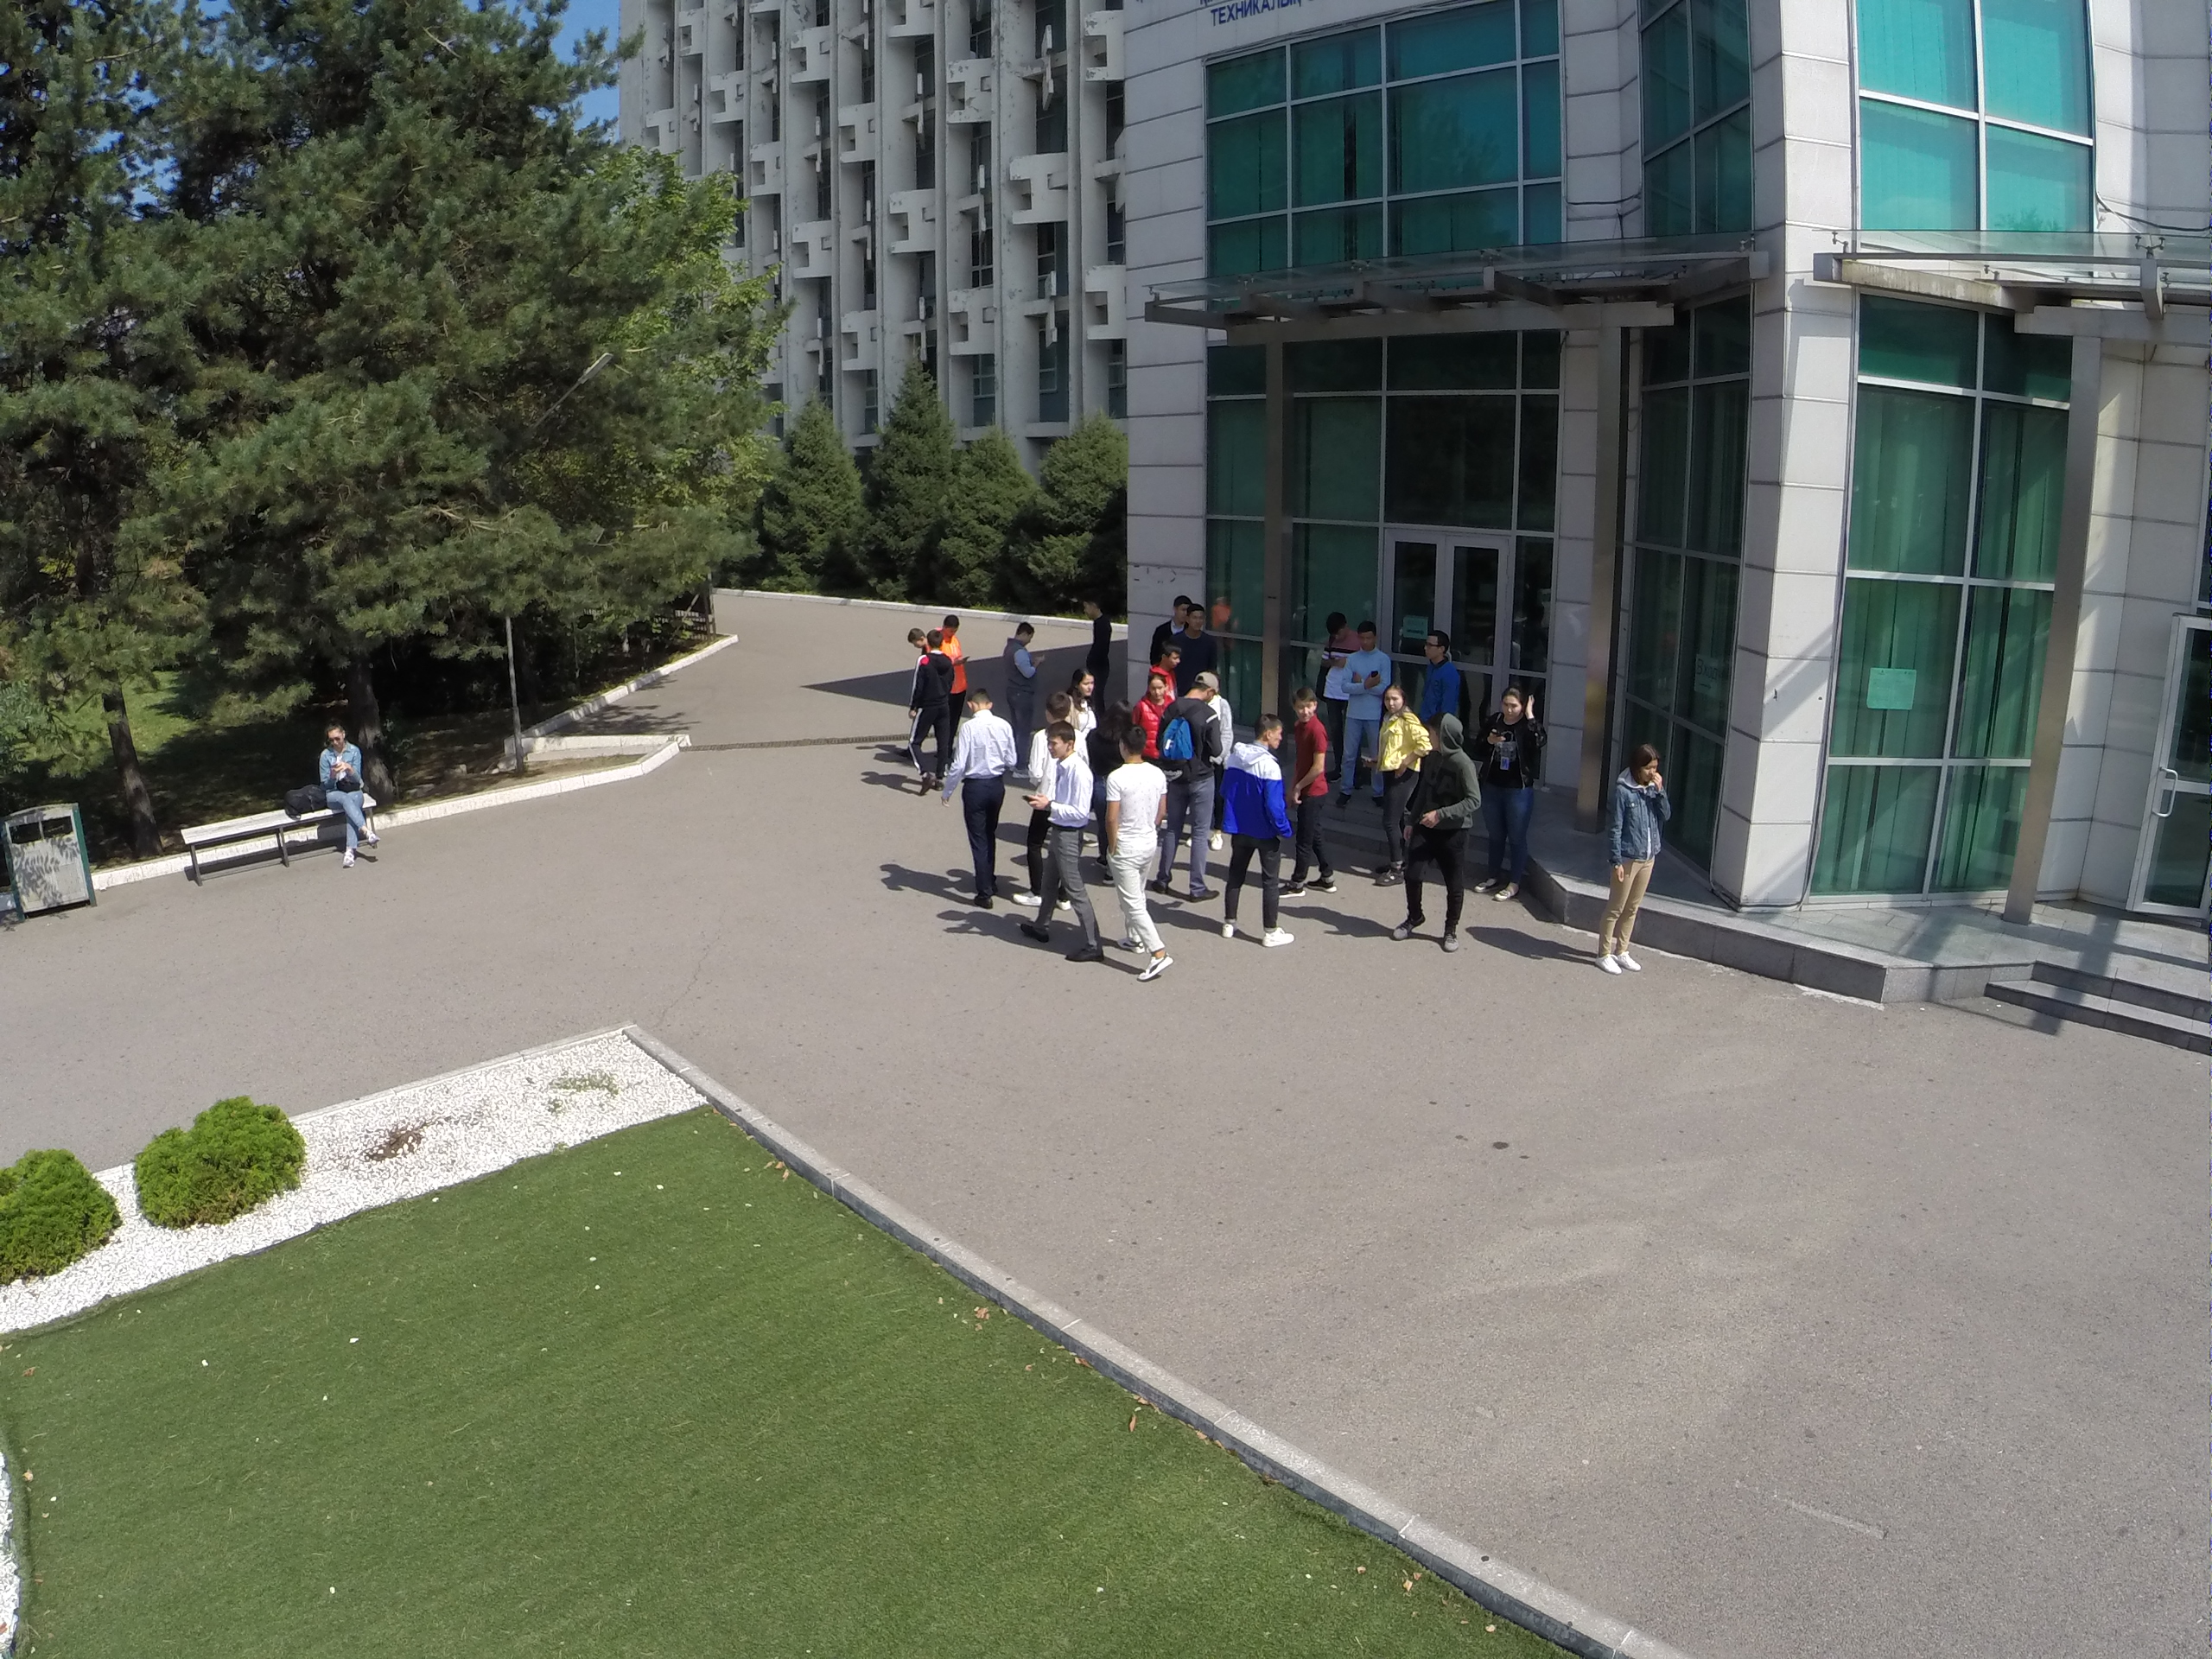person: (1022, 723, 1108, 962), (1394, 708, 1472, 955), (1217, 713, 1294, 952), (1594, 741, 1668, 982), (1150, 671, 1221, 900), (1477, 682, 1544, 910), (946, 692, 1014, 917), (1366, 677, 1419, 895), (1289, 688, 1341, 893), (310, 715, 378, 871), (1336, 625, 1388, 808), (909, 632, 952, 801), (1004, 616, 1034, 778), (1164, 598, 1221, 677), (1079, 575, 1115, 700), (1312, 607, 1351, 704), (1423, 629, 1463, 717), (1066, 666, 1102, 740), (1134, 671, 1167, 751)
